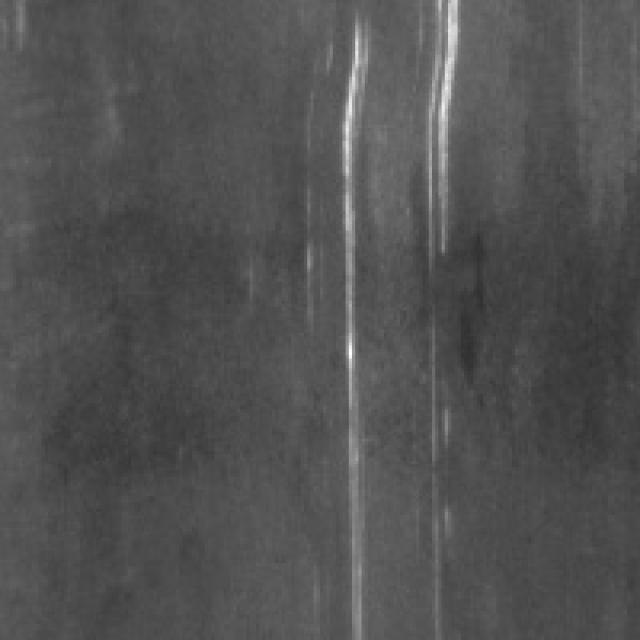scratches: (336, 3, 394, 634), (419, 0, 480, 259)
